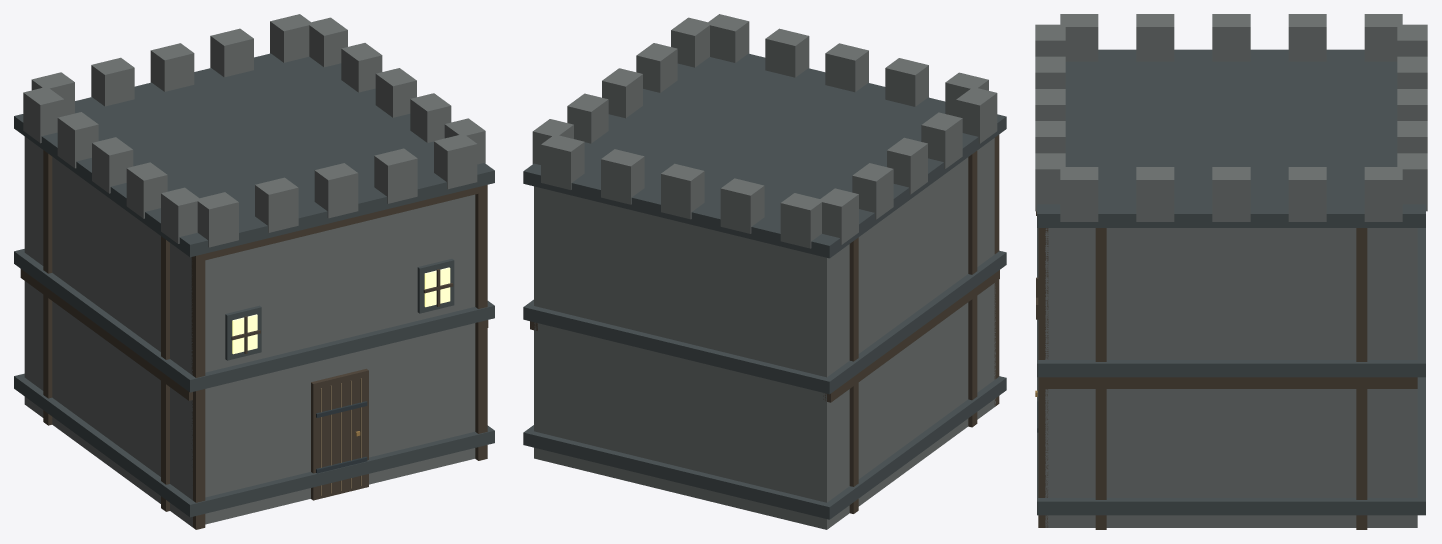
The model's file is BLD_Keep_00_Ash.glb.
3 views of the same model, side by side, from view 1: azimuth 30°, elevation 25°; view 2: azimuth 150°, elevation 25°; view 3: azimuth 270°, elevation 25° (orthographic). The views are drawn at different scales.
Parts seen in each view (by area): view 1: BLD_Keep_00_Ash; view 2: BLD_Keep_00_Ash; view 3: BLD_Keep_00_Ash.
Part boxes in pixels (<box>): BLD_Keep_00_Ash: <box>14,14,494,529</box>; BLD_Keep_00_Ash: <box>523,14,1006,529</box>; BLD_Keep_00_Ash: <box>1035,14,1427,529</box>.
Size of the model in its own units: 4.64 by 4.59 by 4.64.
